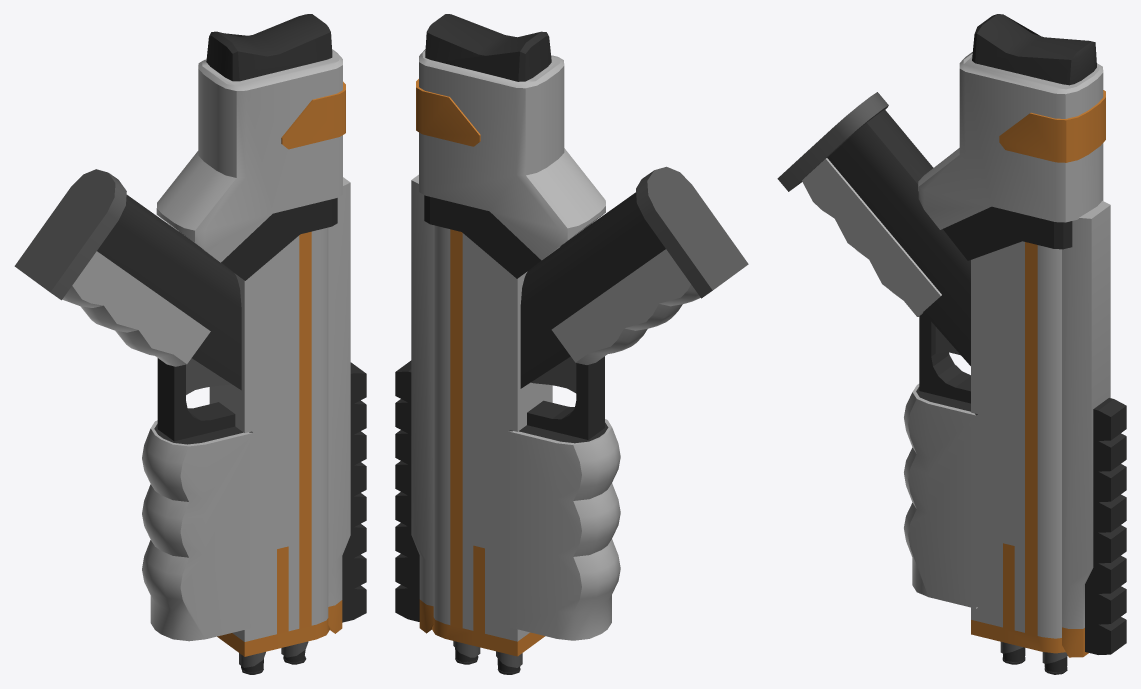
File: qg-pistol-3-lod1.glb
3 renders of one model, left to right at view 1: azimuth 30°, elevation 25°; view 2: azimuth 150°, elevation 25°; view 3: azimuth 330°, elevation 25°, orthographic.
Parts seen in each view (by area): view 1: WeaponMesh_qg-pistol-3_Pistol_3; view 2: WeaponMesh_qg-pistol-3_Pistol_3; view 3: WeaponMesh_qg-pistol-3_Pistol_3.
Part boxes in pixels (x1,y1,x2,y2): WeaponMesh_qg-pistol-3_Pistol_3: (14,14,366,674); WeaponMesh_qg-pistol-3_Pistol_3: (395,14,748,674); WeaponMesh_qg-pistol-3_Pistol_3: (777,14,1126,674).
Size of the model in its own units: 0.3316 by 0.62 by 0.0777.
